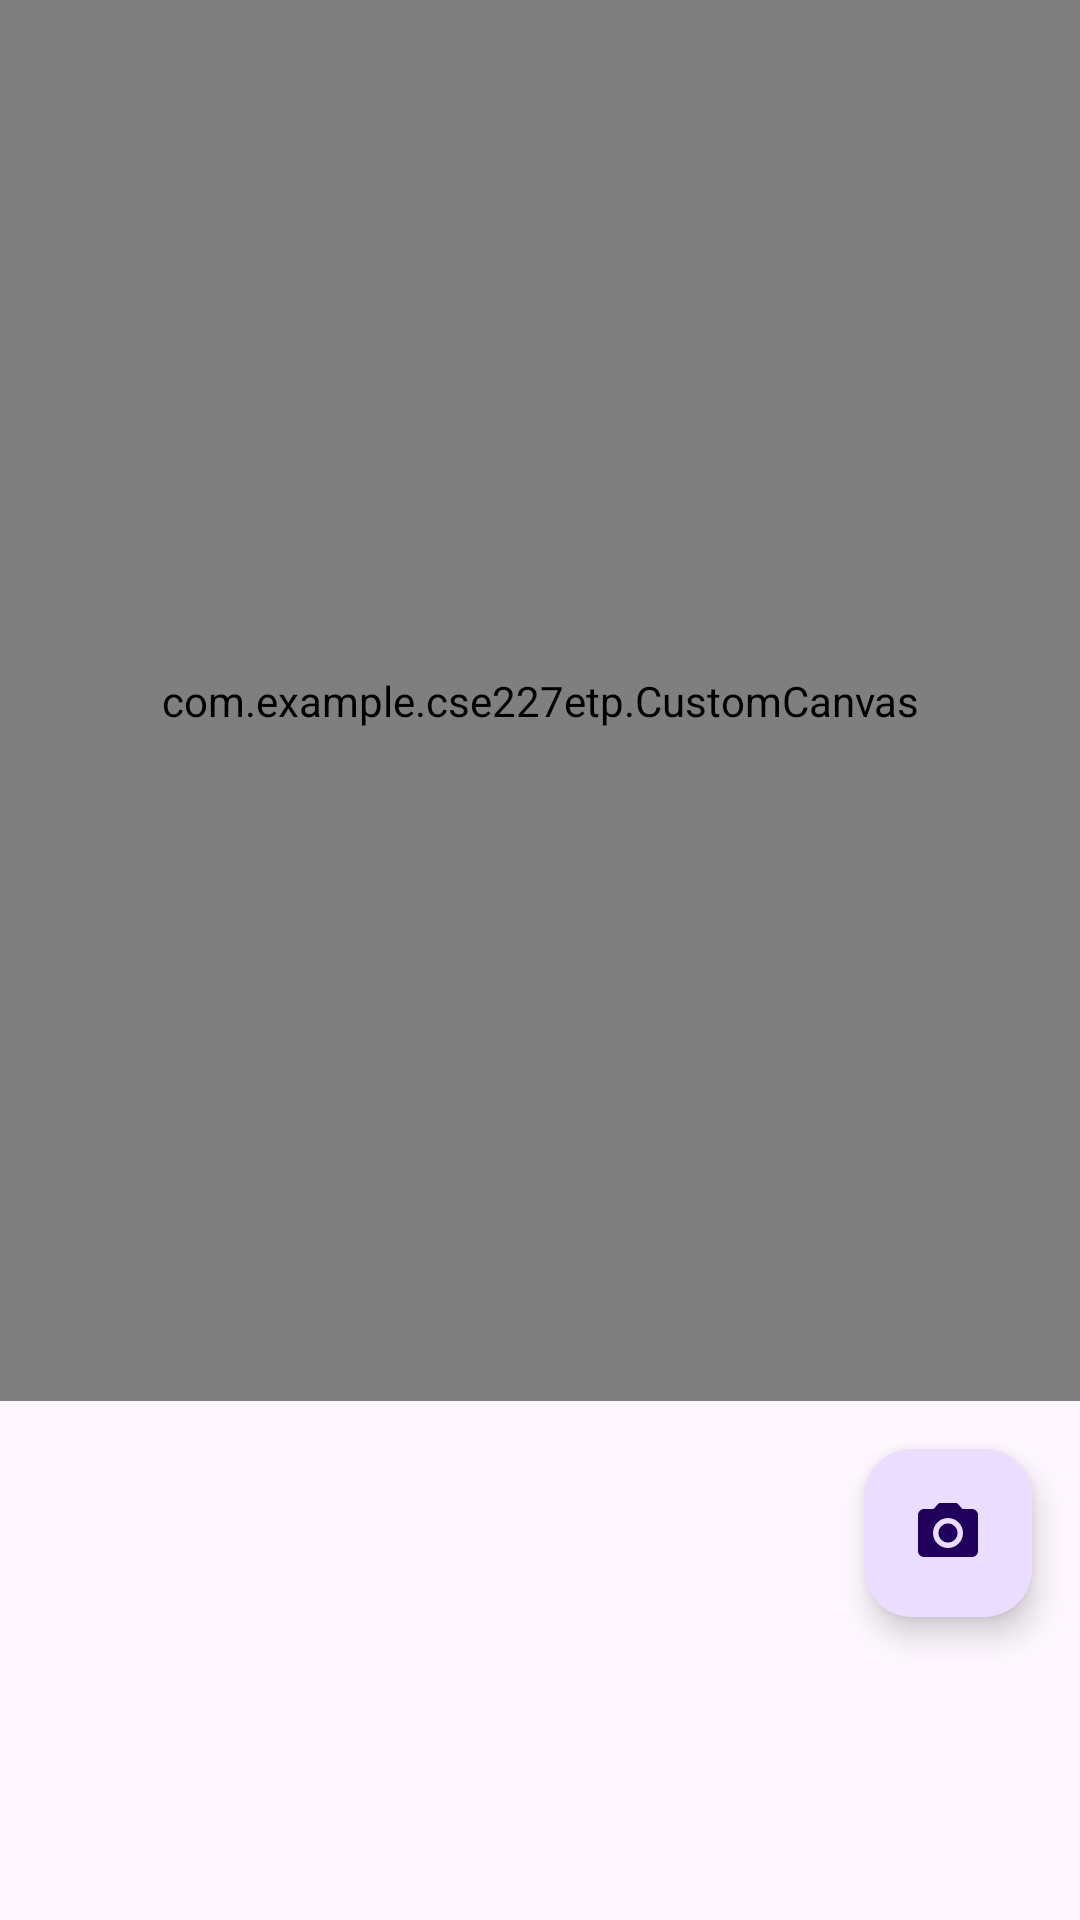

Icons on this 1080w x 1920h Android screen, each with its box as (x1, y1, x2, y2):
camera: (864, 1449, 1032, 1617)
